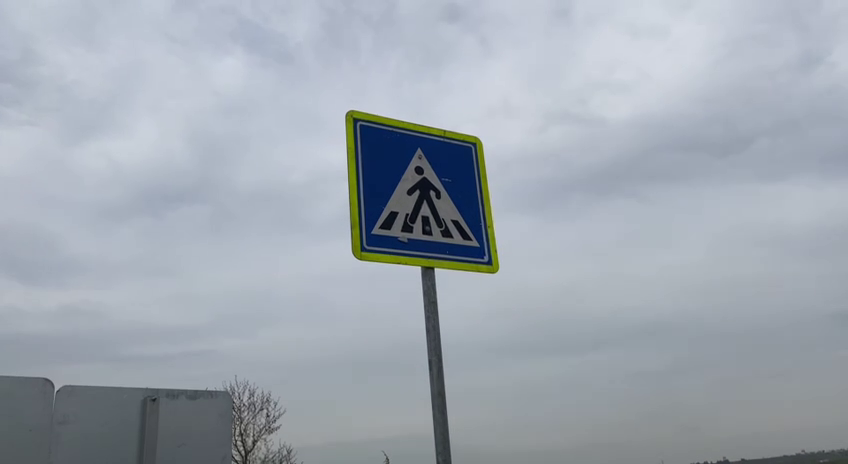pedestrianCrossing: (341, 107, 504, 277)
